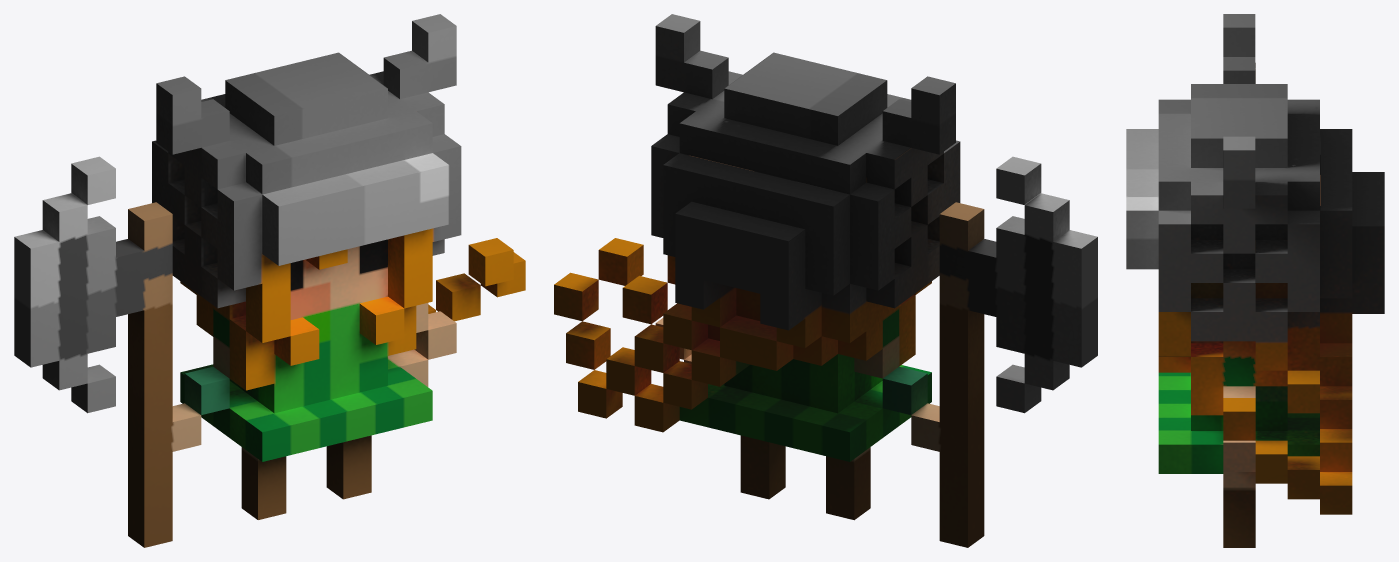
File: viking.glb
3 renders of one model, left to right at view 1: azimuth 30°, elevation 25°; view 2: azimuth 150°, elevation 25°; view 3: azimuth 270°, elevation 25°, orthographic.
Parts seen in each view (by area): view 1: viking; view 2: viking; view 3: viking.
Part boxes in pixels (box(x1,y1,x2,y2)): viking: box(14, 14, 525, 547); viking: box(554, 14, 1097, 547); viking: box(1126, 14, 1384, 547).
Size of the model in its own units: 1.8 by 1.5 by 0.8.
1 material, 1 textured.
